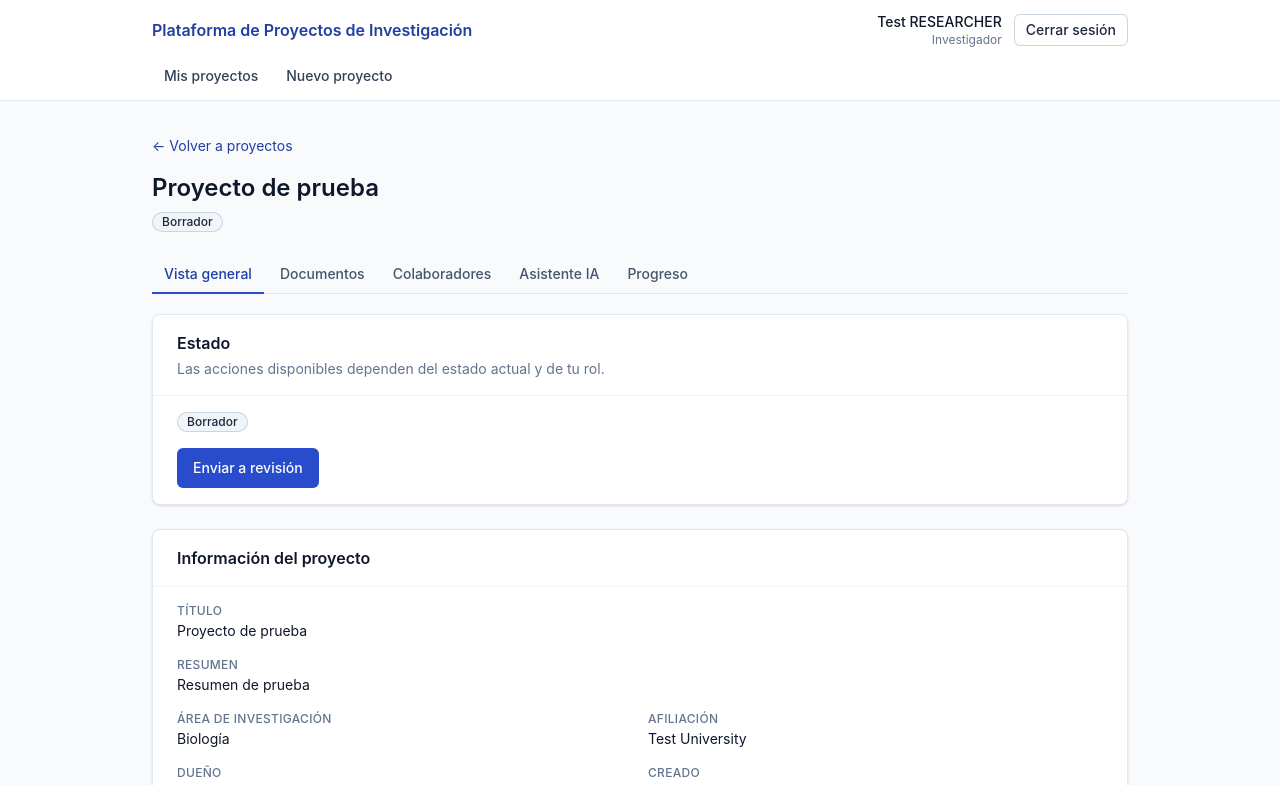
Test case: project workspace: overview and status actions › maps 422 (incomplete) to a clear message naming the missing fields
Click the button "Enviar a revisión" at (248, 468), box [177,448,319,488]
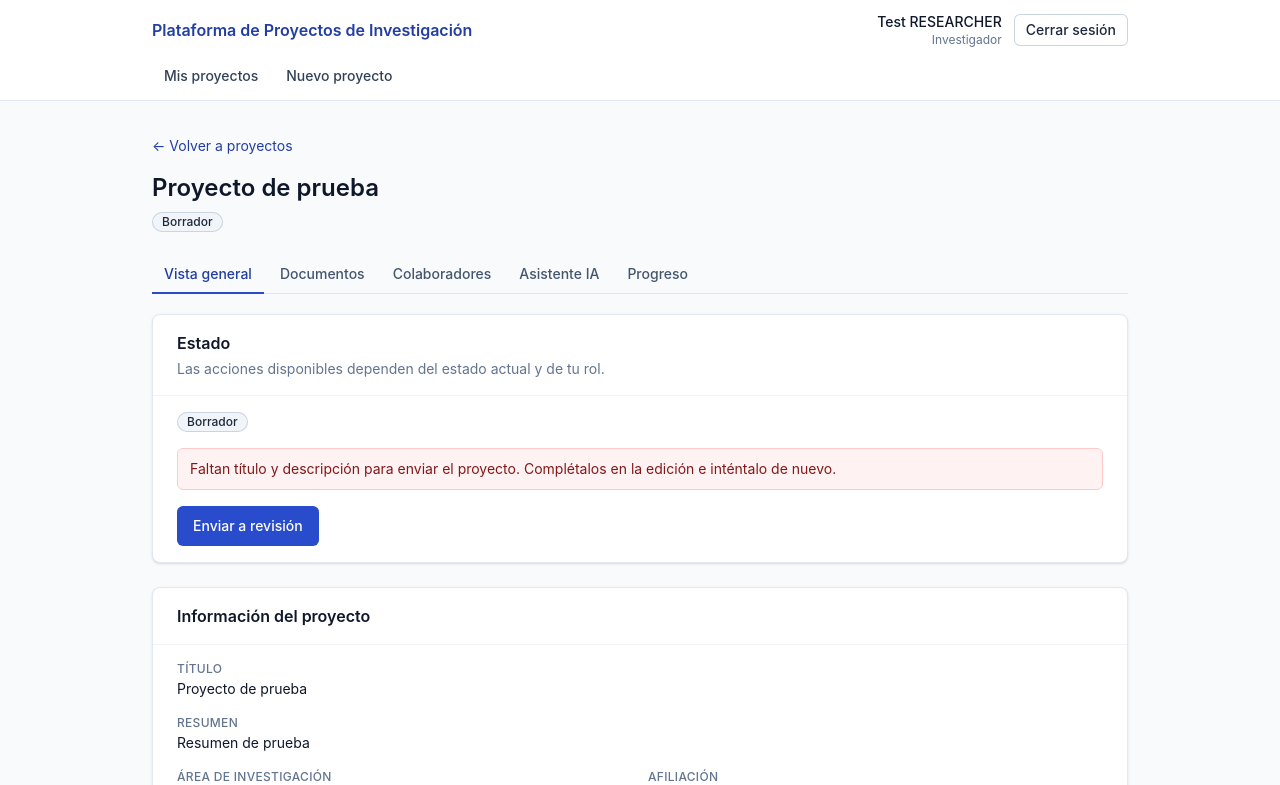
Check: the button "Enviar a revisión" is enabled, box [177,506,319,546]
Check: the message shows "Faltan título y descripción para enviar el proyecto.", box [190,460,836,477]
